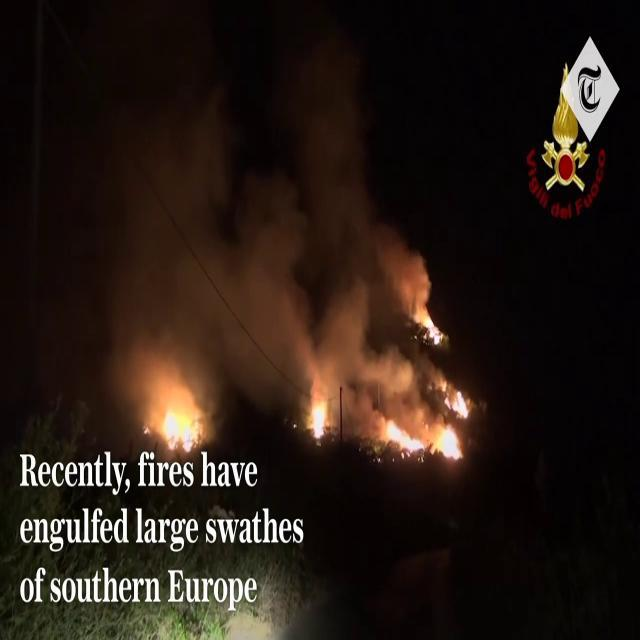Fire: (378, 403, 474, 465), (154, 388, 202, 454), (304, 385, 334, 443)
Smoke: (80, 70, 442, 400)
